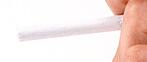smoke: (18, 10, 147, 42)
